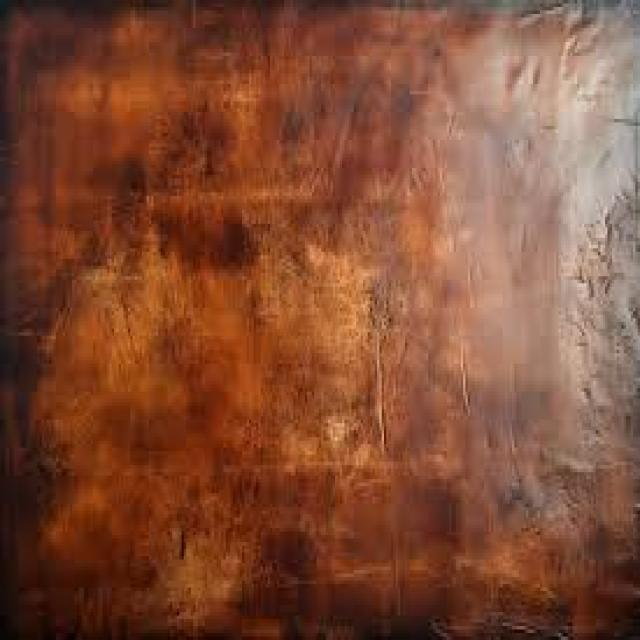Rotten surface: (109, 40, 452, 186), (90, 232, 388, 396), (121, 444, 451, 582), (536, 157, 624, 460)
